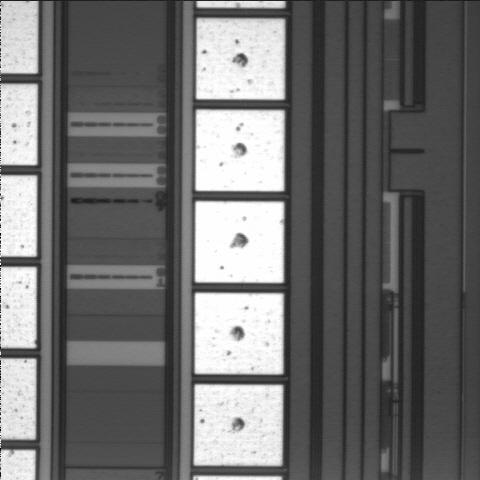pad: (196, 18, 285, 100), (195, 201, 284, 283), (195, 110, 284, 191), (194, 385, 283, 466), (195, 293, 283, 374)
